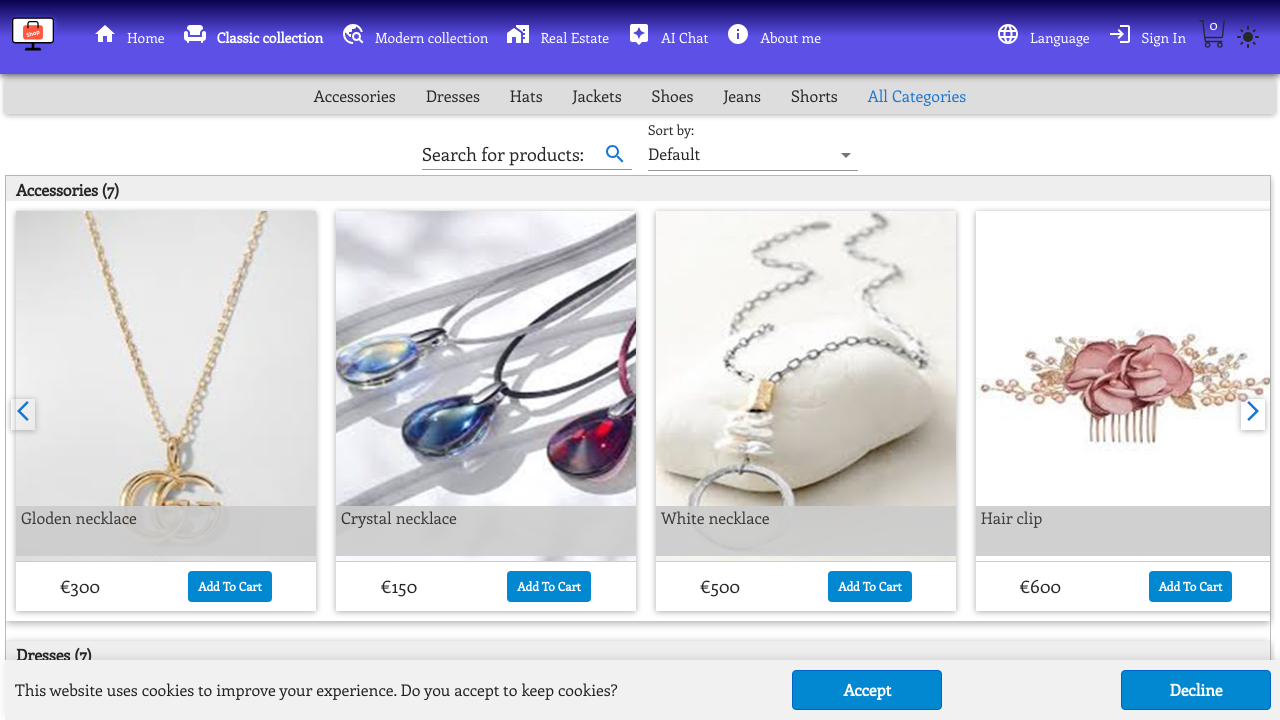
Test: Test filter functionality › should search for an existing product by typing in search textField and then clicking {enter}
Click the link "Language" at (1048,38), box [996,22,1100,53]
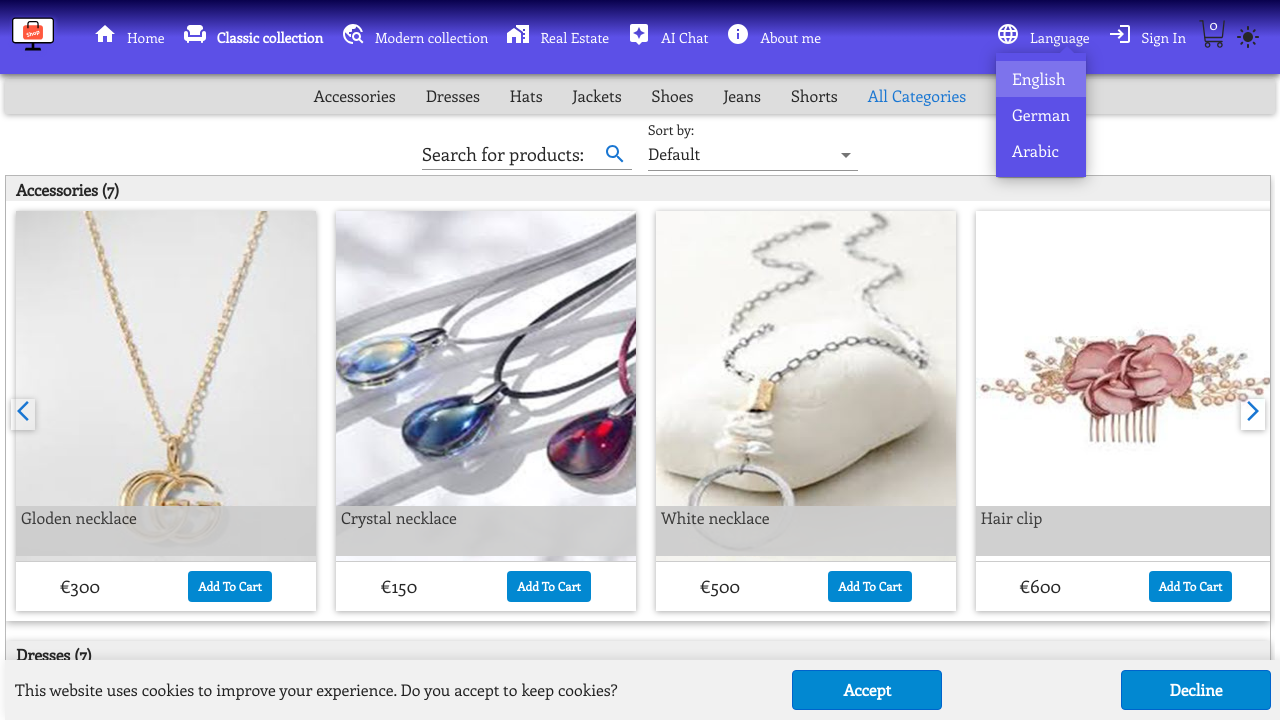
Click the menu item "English" at (1041,79), box [996,61,1086,97]
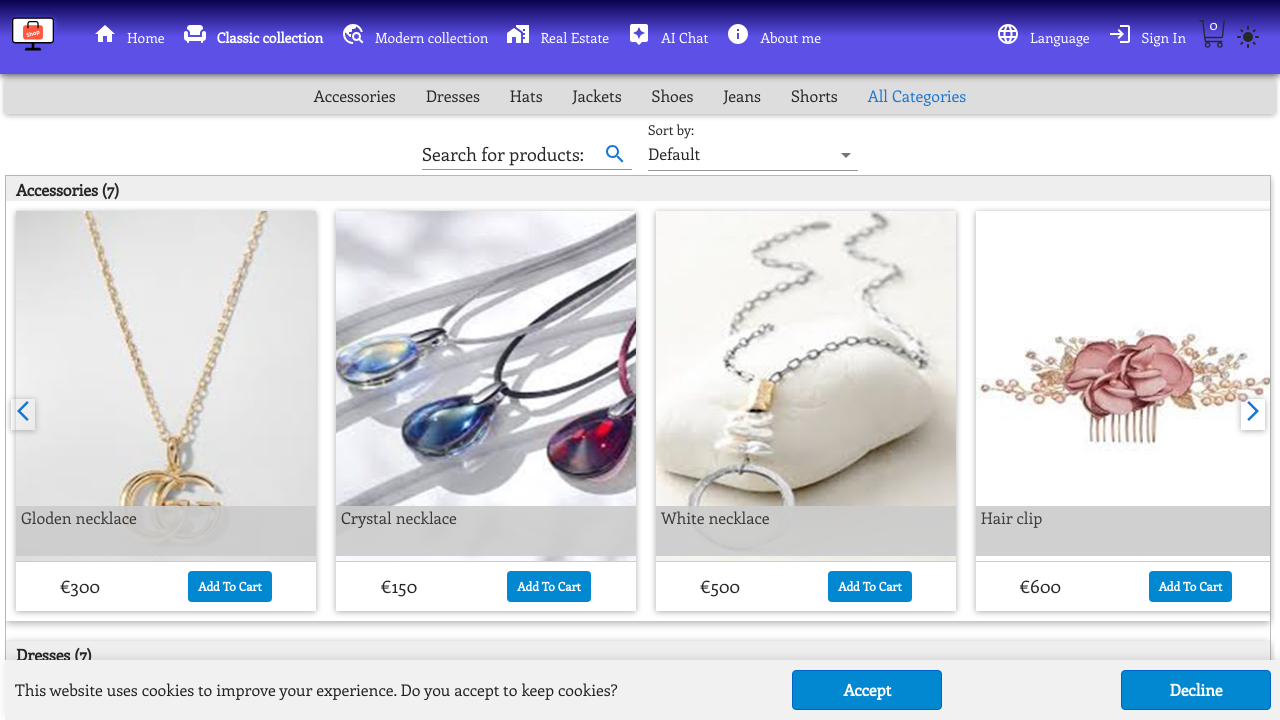
Type "pink dress" into the element showing "Search for products:" at (527,146), box [422,122,632,170]
Then press Enter
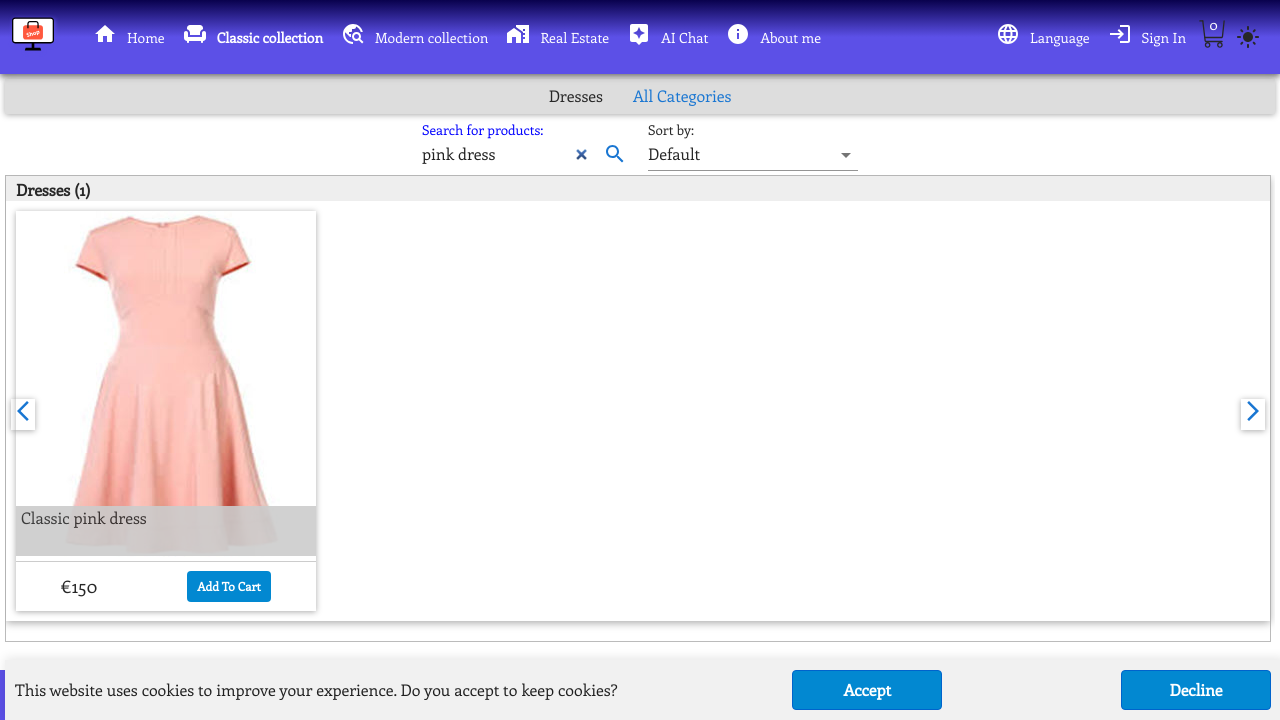
Expected: the text "pink dress" is shown, [21,507,147,528]
